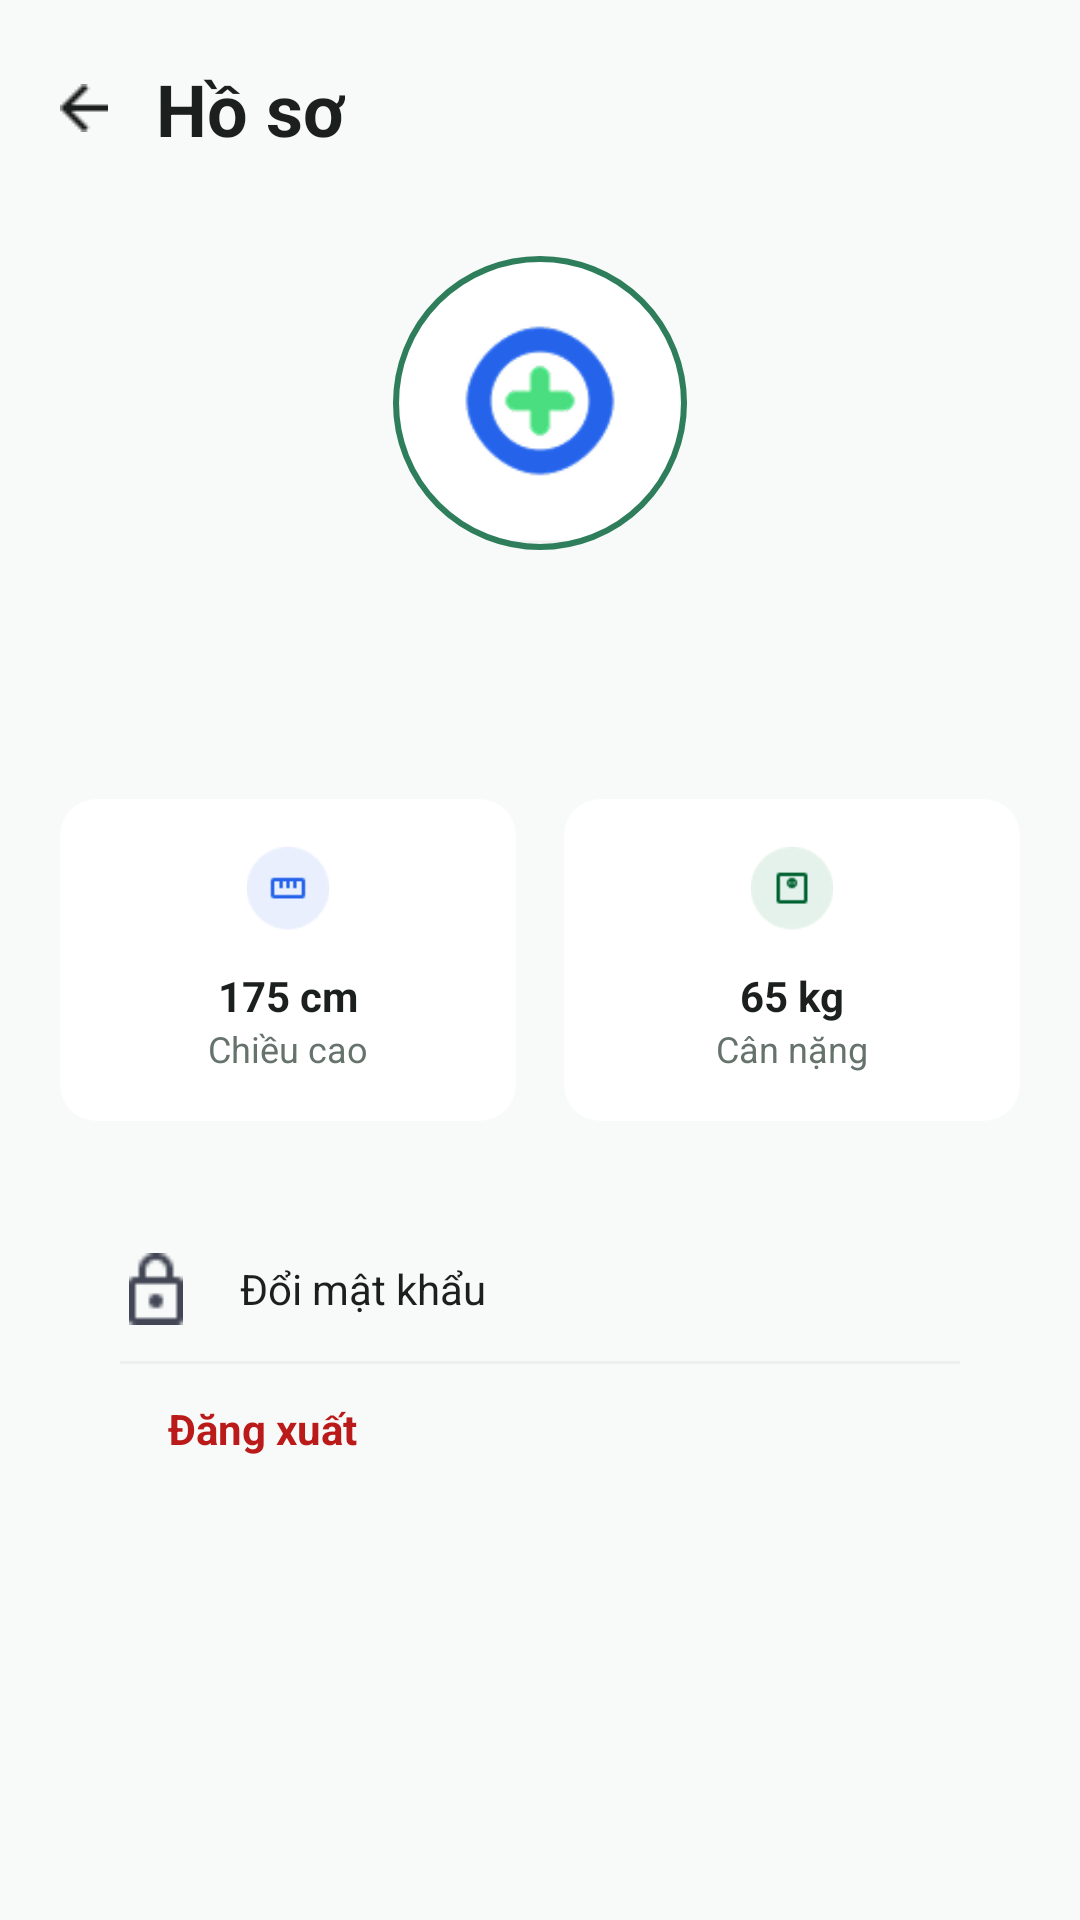

Locate icon controls on the screen. Image size 1080px×1920px, boxes as (x1, y1, x2, y2).
back: (60, 84, 108, 132)
height: (270, 877, 306, 899)
lock: (129, 1253, 183, 1325)
weight: (751, 847, 833, 929)
